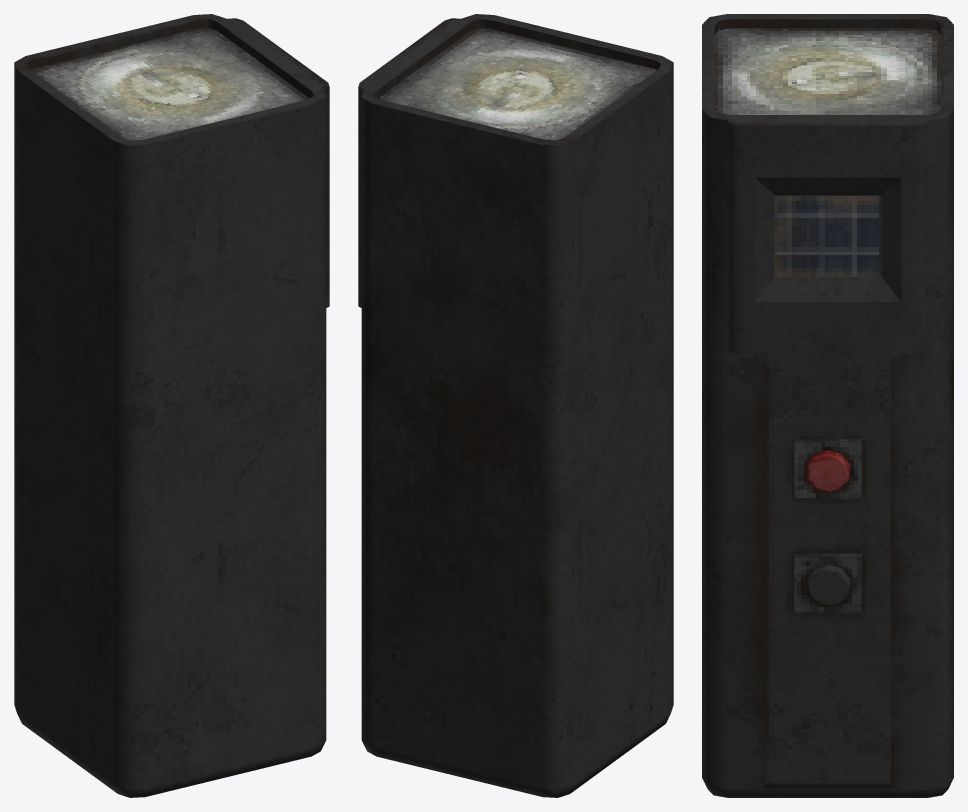
Rendered from psx_flashlight_dead.glb.
3 views of the same model, side by side, from view 1: azimuth 30°, elevation 25°; view 2: azimuth 150°, elevation 25°; view 3: azimuth 270°, elevation 25° (orthographic). The views are drawn at different scales.
Visible parts, largest first — view 1: FlashLight_Set_1_1; view 2: FlashLight_Set_1_1; view 3: FlashLight_Set_1_1.
Part boxes in pixels (bbox=[...]): FlashLight_Set_1_1: bbox=[14, 14, 329, 797]; FlashLight_Set_1_1: bbox=[358, 14, 673, 797]; FlashLight_Set_1_1: bbox=[702, 14, 953, 797].
Bounding box in the file's own units: 0.0552 × 0.15 × 0.05.
1 material, 1 textured.
